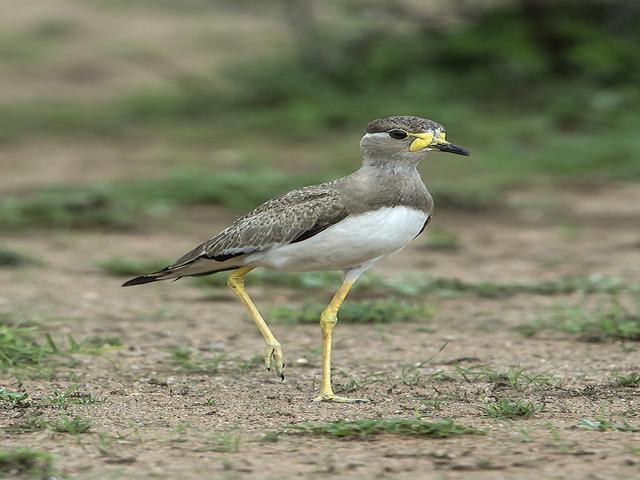bird: (133, 83, 479, 407)
